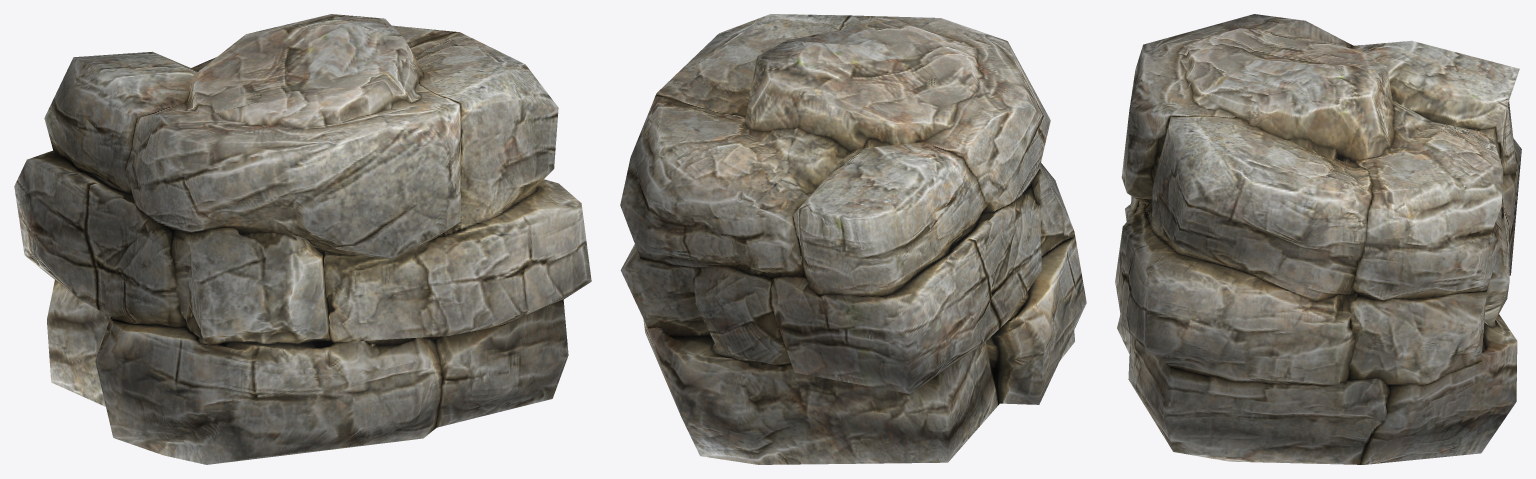
The model's file is Cliff3_LOD1.fbx.
3 renders of one model, left to right at view 1: azimuth 30°, elevation 25°; view 2: azimuth 150°, elevation 25°; view 3: azimuth 270°, elevation 25°, orthographic. The views are drawn at different scales.
Visible parts, largest first — view 1: Cliff3_400tris_Group42860; view 2: Cliff3_400tris_Group42860; view 3: Cliff3_400tris_Group42860.
Boxes of the visible parts, box(x1,y1,x2,y2) form: Cliff3_400tris_Group42860: box(14, 14, 591, 464); Cliff3_400tris_Group42860: box(620, 14, 1086, 464); Cliff3_400tris_Group42860: box(1115, 14, 1521, 464).
Size of the model in its own units: 5.97 by 5.49 by 5.48.
1 material, 1 textured.
